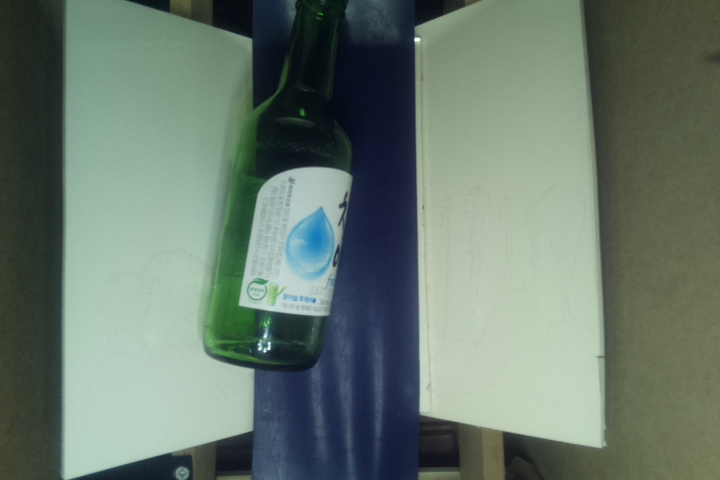soju: (200, 1, 358, 372)
